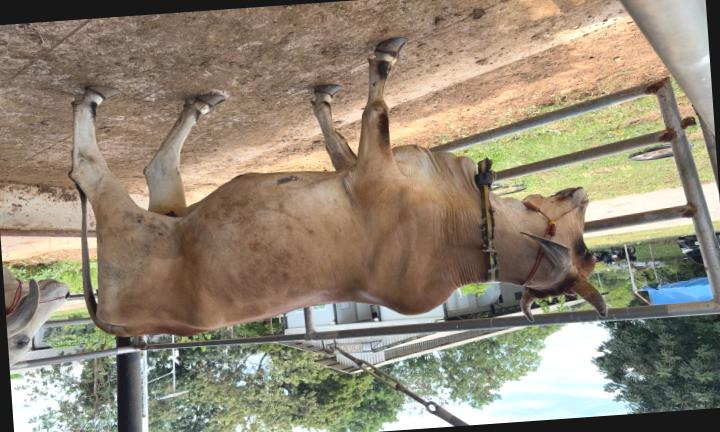Brahman: (71, 38, 607, 336)
